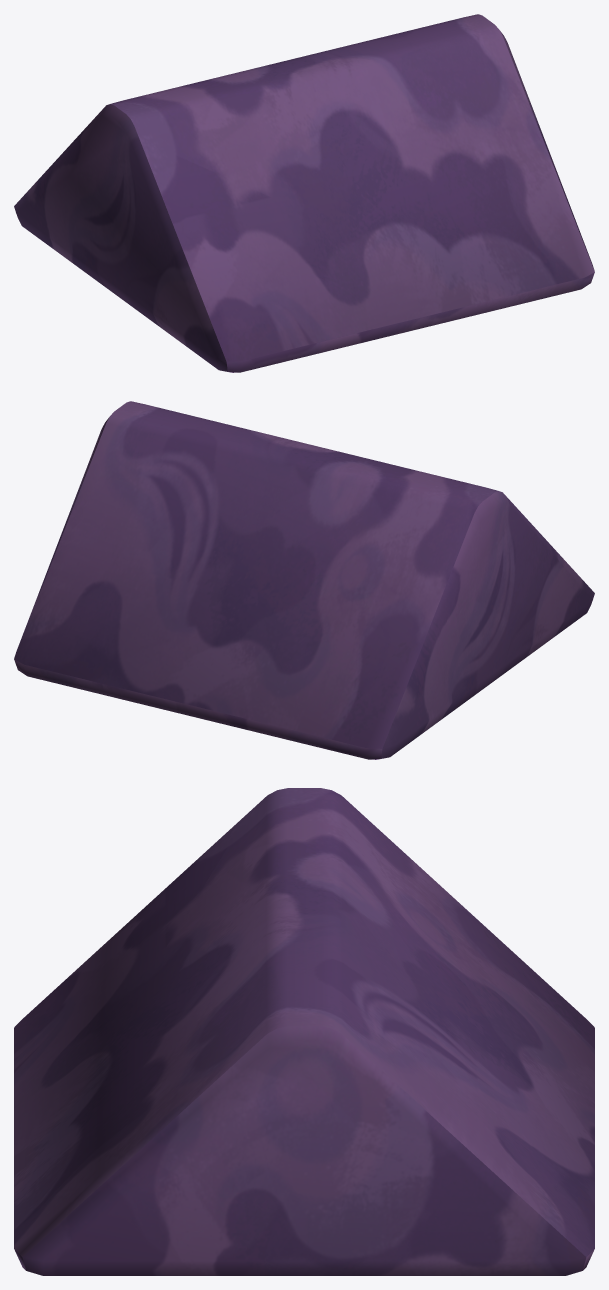
Rendered from roof.fbx.
3 renders of one model, top to bottom at view 1: azimuth 30°, elevation 25°; view 2: azimuth 150°, elevation 25°; view 3: azimuth 270°, elevation 25°, orthographic. The views are drawn at different scales.
Visible parts, largest first — view 1: pCube2.002; view 2: pCube2.002; view 3: pCube2.002.
Boxes of the visible parts, bbox=[...] form: pCube2.002: bbox=[14, 14, 594, 372]; pCube2.002: bbox=[14, 401, 594, 759]; pCube2.002: bbox=[14, 788, 594, 1275].
Bounding box in the file's own units: 100 × 48.86 × 100.
